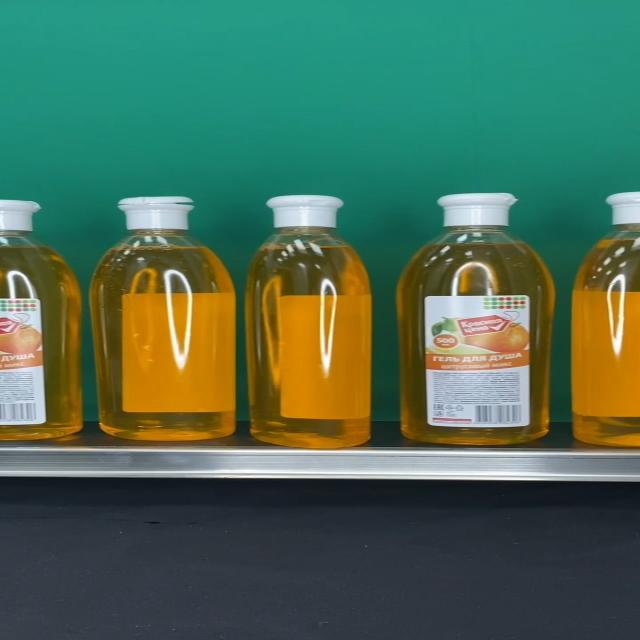Bottle: (396, 193, 556, 444), (90, 196, 235, 441), (246, 196, 372, 449)
Cap: (436, 193, 518, 226), (117, 196, 194, 230), (266, 196, 344, 228)
